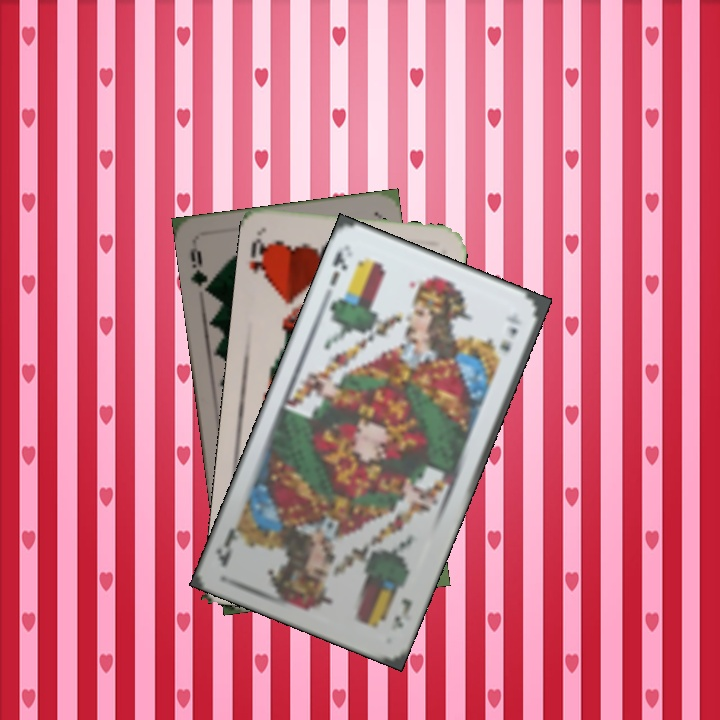EK: (325, 242, 351, 289), (387, 593, 414, 633)
G9: (186, 240, 216, 298)
HO: (245, 234, 272, 281)
